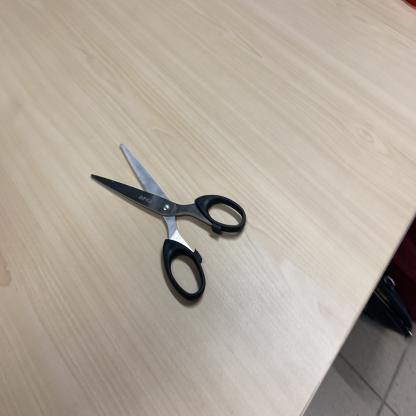scissors: (88, 139, 250, 311)
